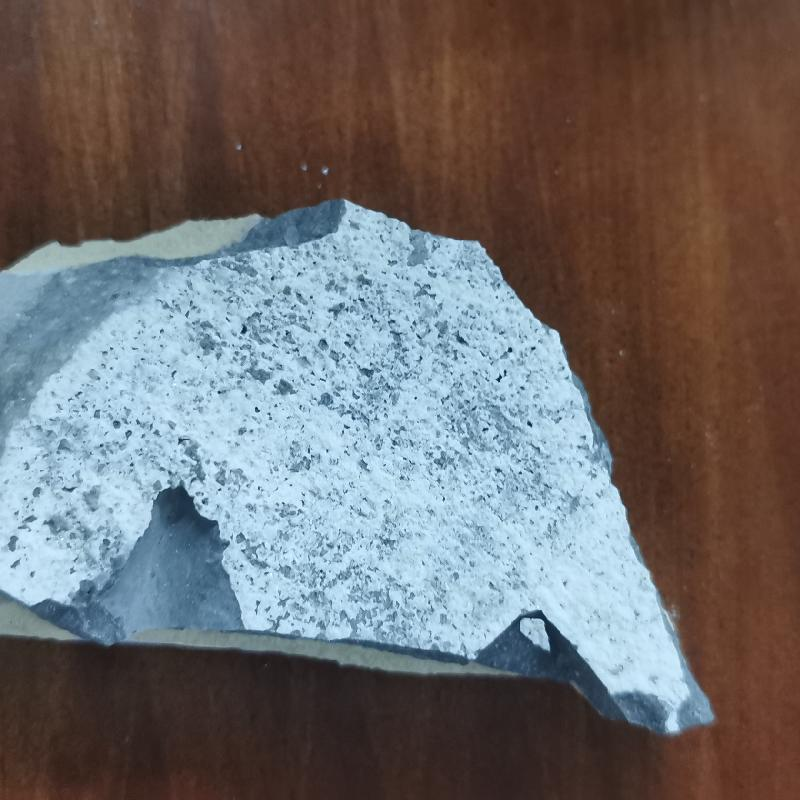tile: (4, 198, 719, 740)
